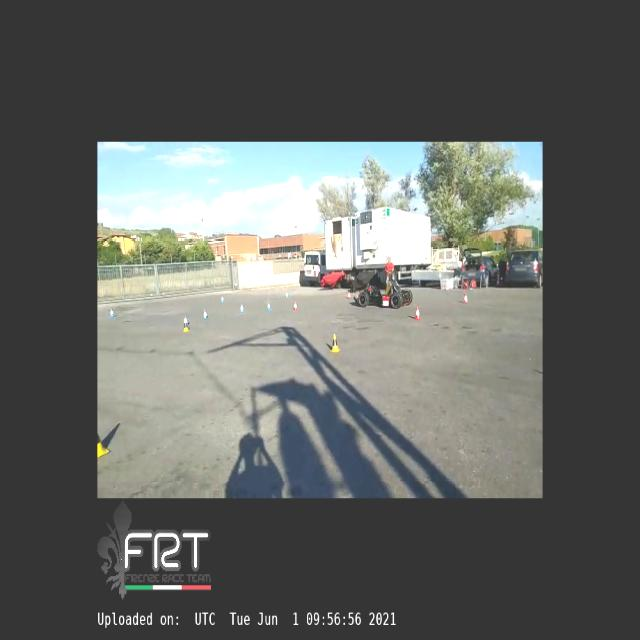blue_cone: (183, 315, 190, 326), (203, 309, 209, 320), (266, 302, 272, 311), (284, 292, 290, 300), (239, 304, 244, 313), (110, 309, 114, 318), (220, 296, 224, 304)
orange_cone: (414, 305, 420, 320), (292, 301, 298, 311), (463, 294, 469, 304), (347, 292, 351, 298)
yellow_cone: (98, 415, 110, 457), (330, 334, 340, 352), (182, 319, 189, 332)
